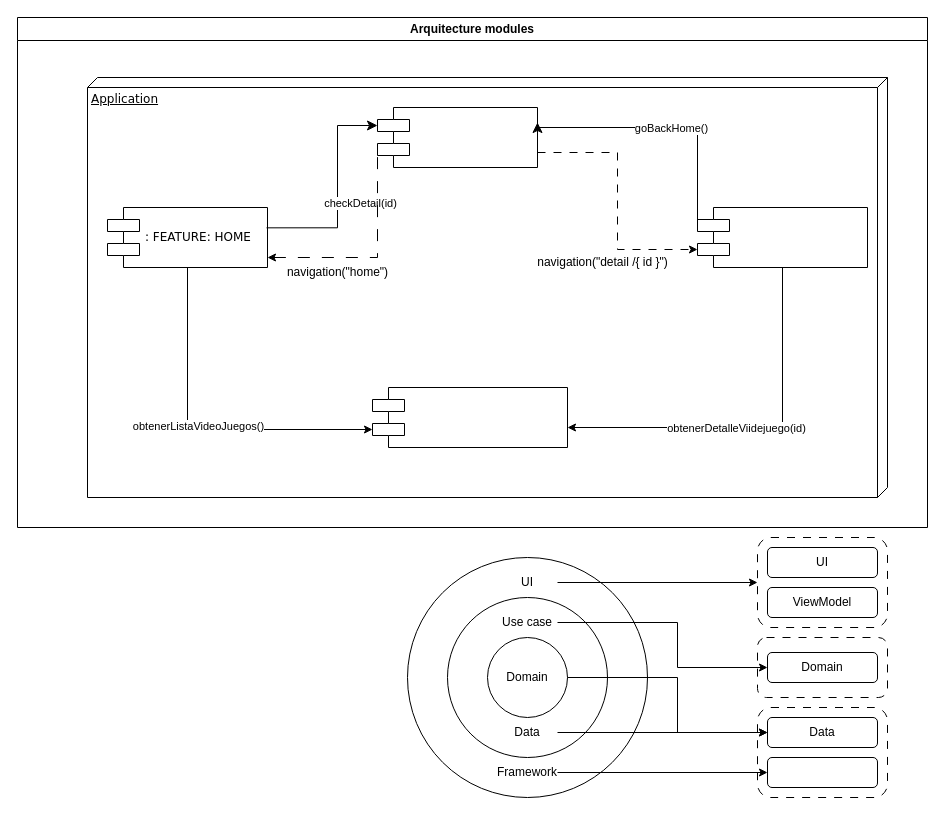
This 945x815 diagram has some shape labels left out. The shapes that lost their labels are listed below. From the top down, each one's centre as x and y in pixels, then its label:
At (x=457, y=137): ": APP : ANDROID".
At (x=782, y=237): ": FEATURE: DETAIL".
At (x=470, y=417): ": DATA : VIDEOGAMES".
At (x=822, y=772): "Repository".
